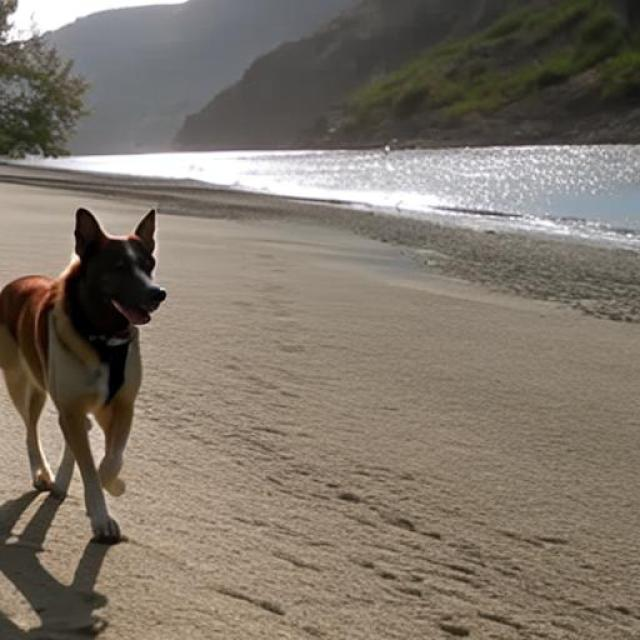Dog: (0, 207, 168, 543)
